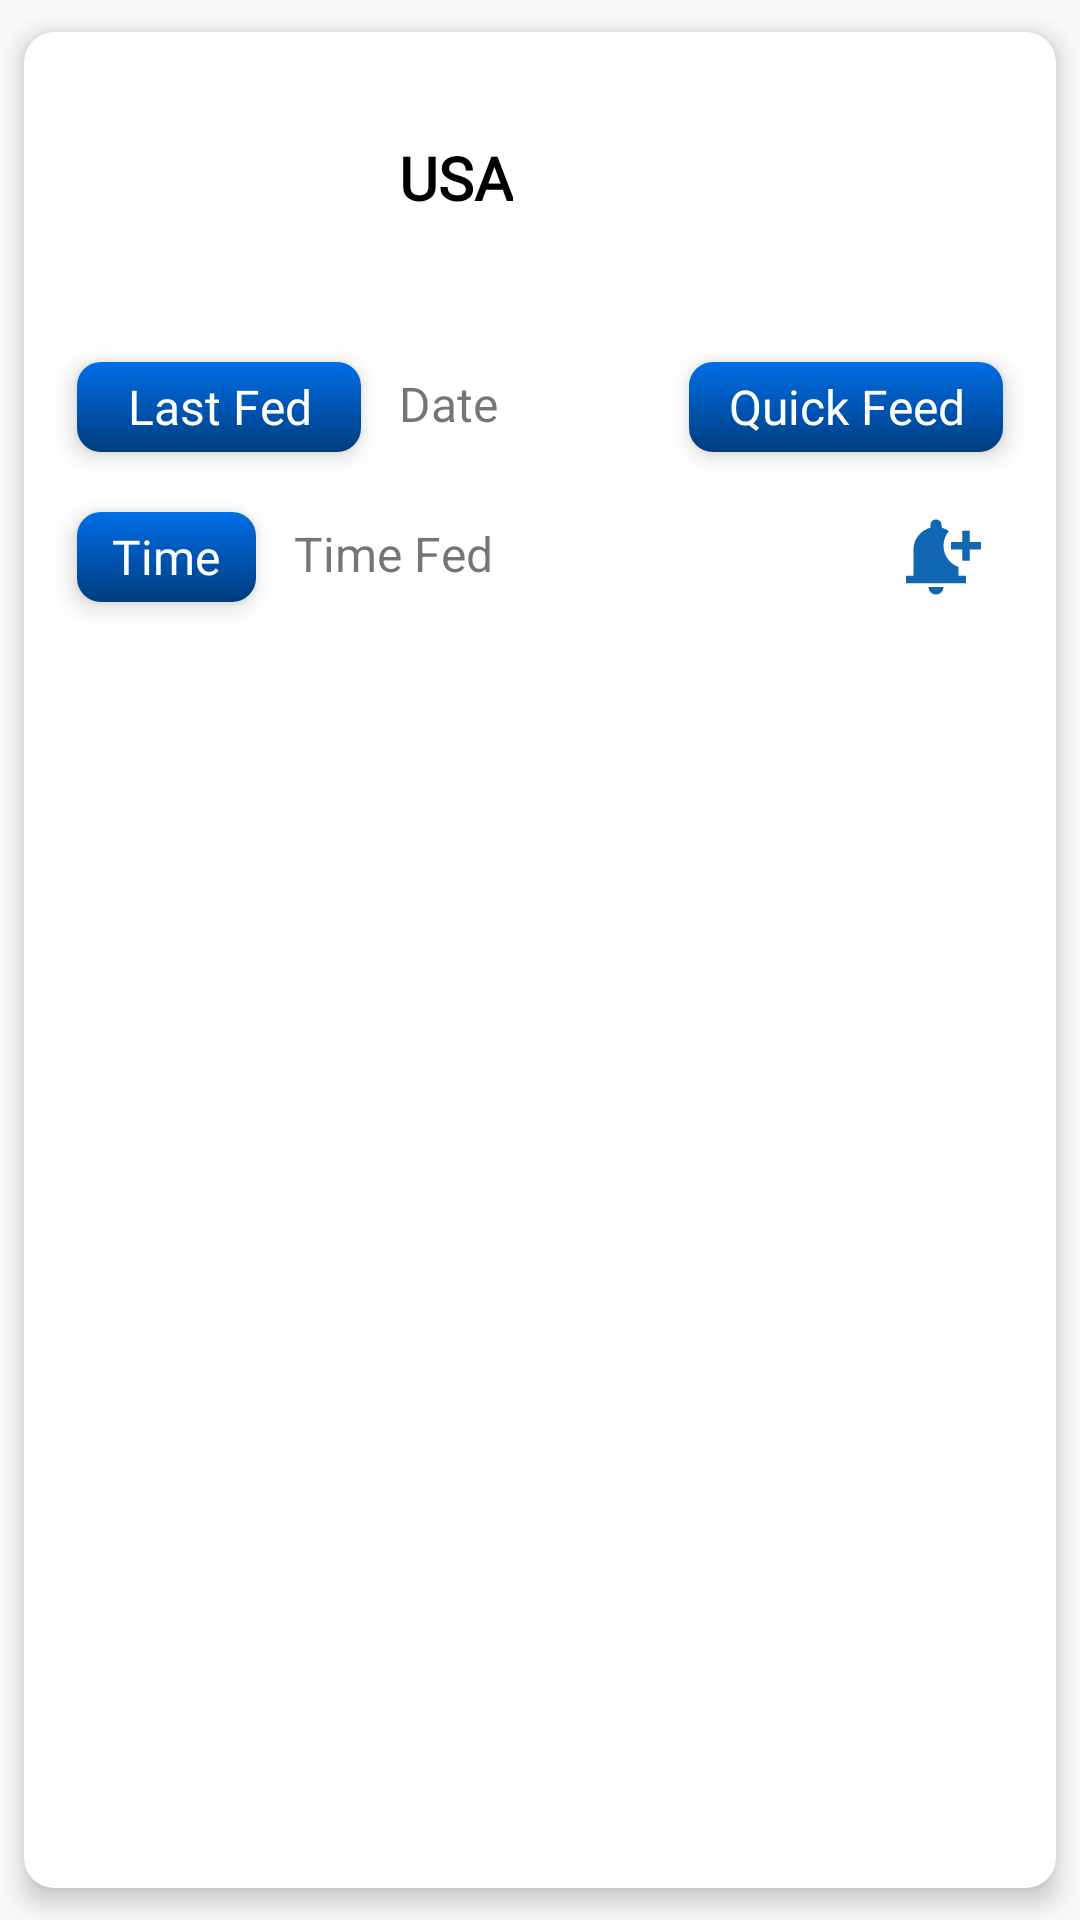

Point at icon controls on the screen. Image size 1080*1920, points as point (x, y).
add notification: point (943, 557)
